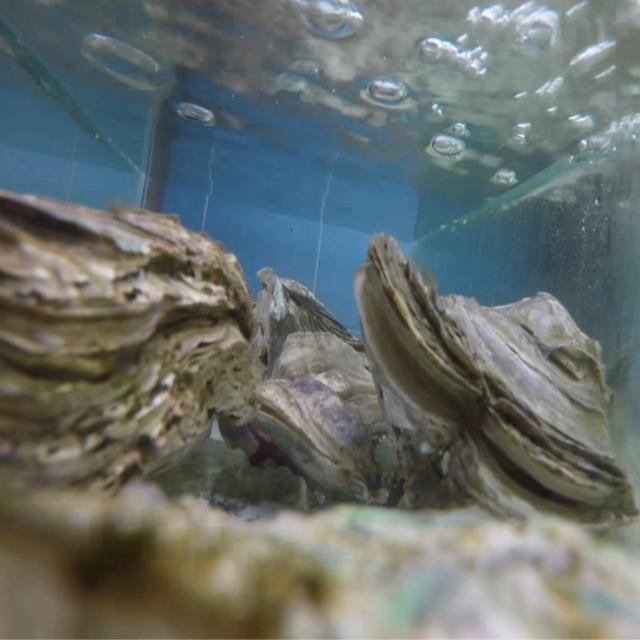Oyster-Closed: (0, 192, 254, 518), (250, 332, 406, 508)
Oyster-Indeterminate: (0, 482, 640, 640), (252, 266, 368, 383)
Oyster-Open: (354, 234, 640, 542)
